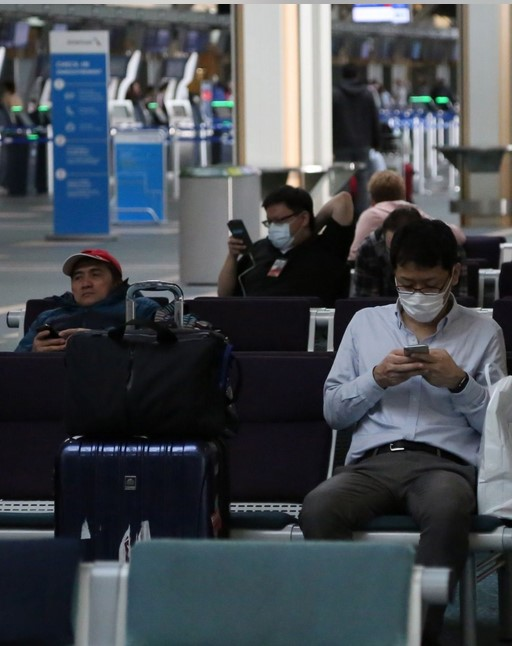face_no_mask: (64, 251, 116, 308)
face_with_mask: (386, 218, 465, 326), (259, 187, 321, 257)
